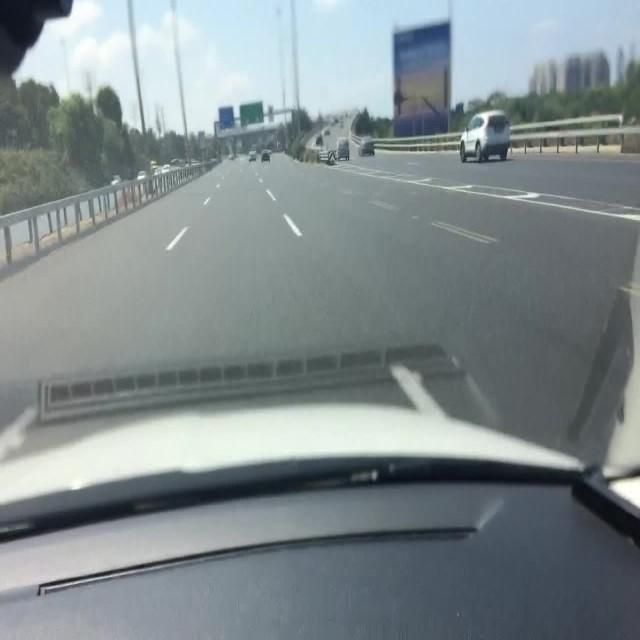normal: (425, 89, 540, 176)
